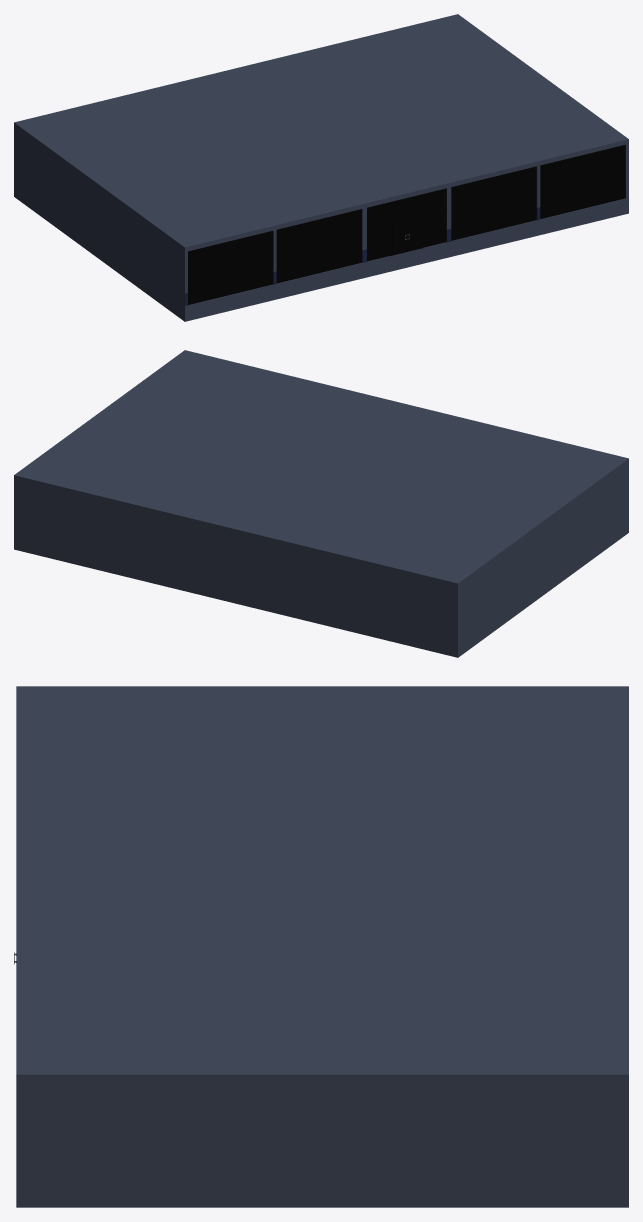
File: bulding.fbx
3 views of the same model, one above another, from view 1: azimuth 30°, elevation 25°; view 2: azimuth 150°, elevation 25°; view 3: azimuth 270°, elevation 25° (orthographic). The views are drawn at different scales.
Parts seen in each view (by area): view 1: pCube2, pCube1, pCube25, pCube27, pCube28, pCube24, pCube26, pCube37, pCube38, pCube29; view 2: pCube2, pCube1; view 3: pCube2, pCube1.
Part boxes in pixels (x1=…): pCube2: x1=14, y1=14, x2=628, y2=251; pCube1: x1=14, y1=127, x2=628, y2=321; pCube25: x1=276, y1=209, x2=361, y2=283; pCube27: x1=540, y1=144, x2=625, y2=218; pCube28: x1=451, y1=166, x2=536, y2=240; pCube24: x1=188, y1=231, x2=273, y2=304; pCube26: x1=367, y1=188, x2=446, y2=261; pCube37: x1=406, y1=216, x2=421, y2=251; pCube38: x1=392, y1=220, x2=406, y2=255; pCube29: x1=367, y1=194, x2=446, y2=255; pCube2: x1=14, y1=350, x2=628, y2=587; pCube1: x1=14, y1=463, x2=628, y2=657; pCube2: x1=16, y1=686, x2=628, y2=1082; pCube1: x1=16, y1=1083, x2=628, y2=1207.
Bounding box in the file's own units: 30 × 4.8 × 20.08.
